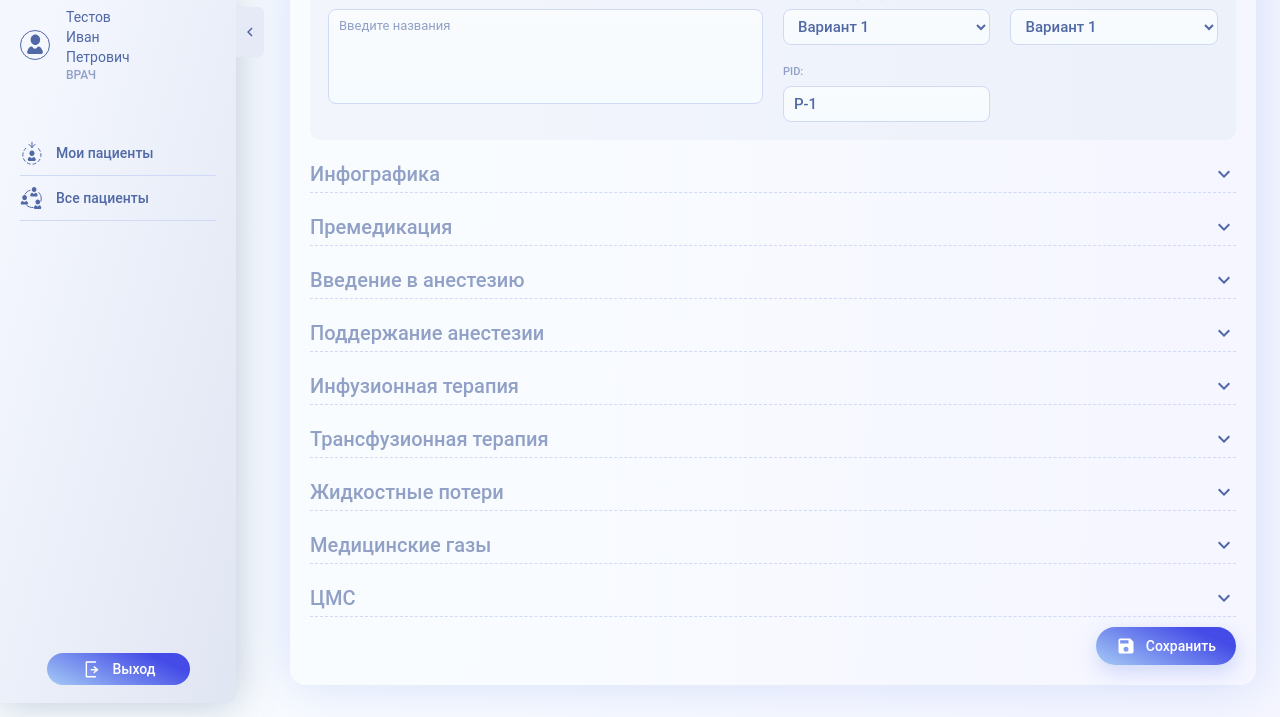
Test: страница наркозной карты › не сохраняет карту с незаполненными обязательными полями
(page scrolled)
Click the button "Сохранить" at point(1166, 646), box [1096,627,1236,665]
(page scrolled)
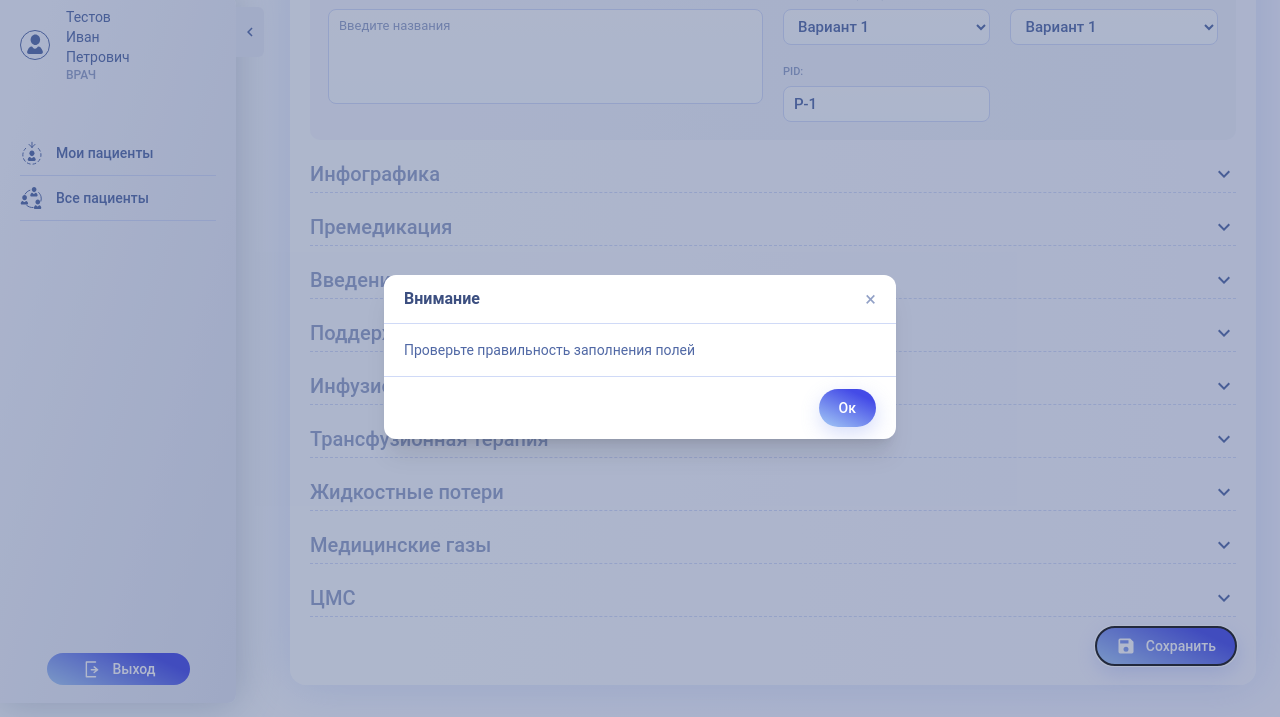
Expected: the text "Проверьте правильность заполнения полей" is shown, [404,342,695,358]
